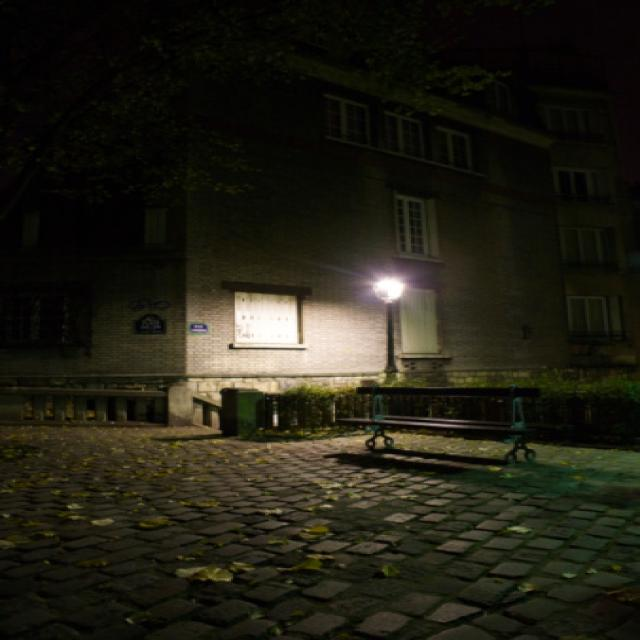chair: (334, 356, 532, 505)
